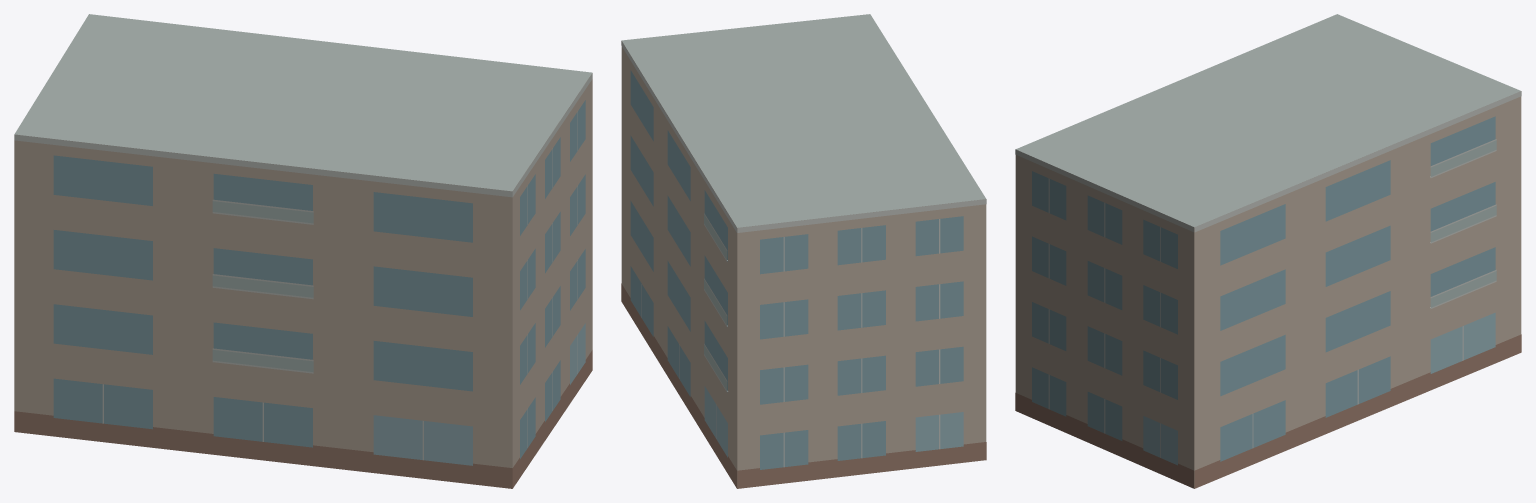
Rendered from survey-upis-32814433.glb.
The picture shows the model from 3 angles, left to right: view 1: azimuth 30°, elevation 25°; view 2: azimuth 150°, elevation 25°; view 3: azimuth 270°, elevation 25°; orthographic projection. The views are drawn at different scales.
Visible parts, largest first — view 1: survey-upis-32814433.tmp; view 2: survey-upis-32814433.tmp; view 3: survey-upis-32814433.tmp.
Part boxes in pixels (bbox=[...]): survey-upis-32814433.tmp: bbox=[14, 14, 592, 488]; survey-upis-32814433.tmp: bbox=[621, 14, 986, 488]; survey-upis-32814433.tmp: bbox=[1015, 14, 1521, 488].
Size of the model in its own units: 21.21 by 12.12 by 21.26.
